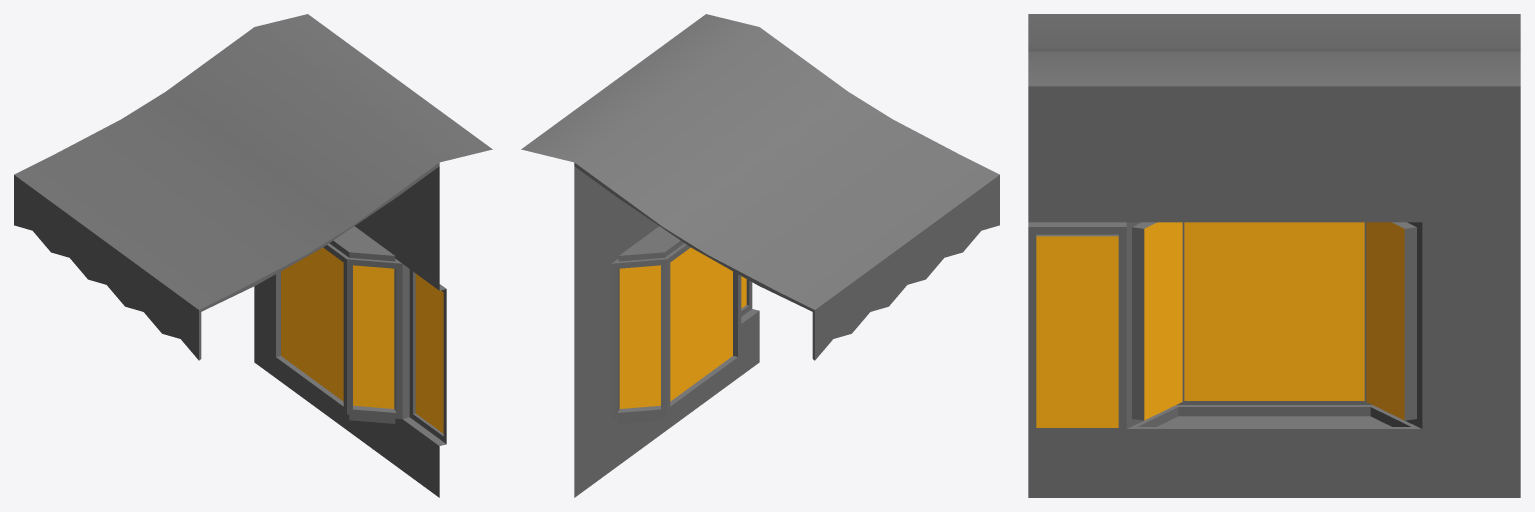
File: O5_Façade_Boutique_Oriel_Fenetre_Droite_Tonnelle.fbx
3 renders of one model, left to right at view 1: azimuth 30°, elevation 25°; view 2: azimuth 150°, elevation 25°; view 3: azimuth 270°, elevation 25°, orthographic. The views are drawn at different scales.
Visible parts, largest first — view 1: O5_Façade_Boutique_Oriel_Fenetre_Droite_Tonnelle; view 2: O5_Façade_Boutique_Oriel_Fenetre_Droite_Tonnelle; view 3: O5_Façade_Boutique_Oriel_Fenetre_Droite_Tonnelle.
Part boxes in pixels (x1=…): O5_Façade_Boutique_Oriel_Fenetre_Droite_Tonnelle: x1=14, y1=14, x2=492, y2=497; O5_Façade_Boutique_Oriel_Fenetre_Droite_Tonnelle: x1=521, y1=14, x2=999, y2=497; O5_Façade_Boutique_Oriel_Fenetre_Droite_Tonnelle: x1=1028, y1=14, x2=1520, y2=497.
Bounding box in the file's own units: 2.75 × 3 × 3.
